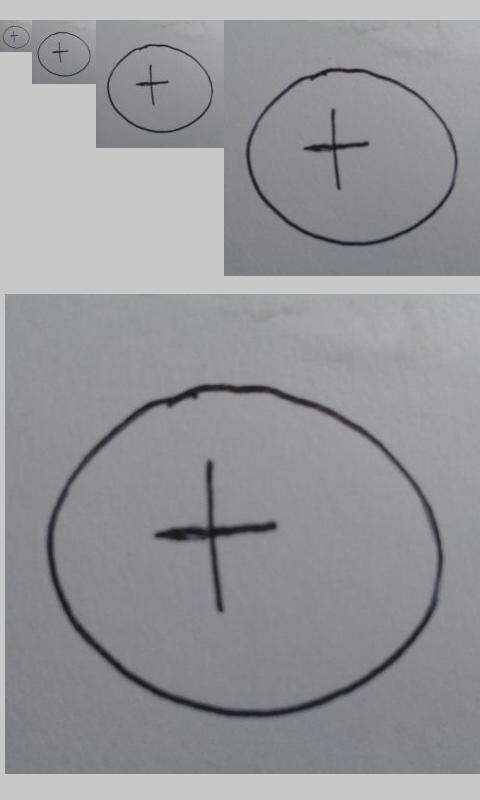button: (45, 380, 447, 722), (243, 66, 460, 248), (106, 43, 214, 134), (37, 31, 91, 77), (2, 25, 30, 49)
